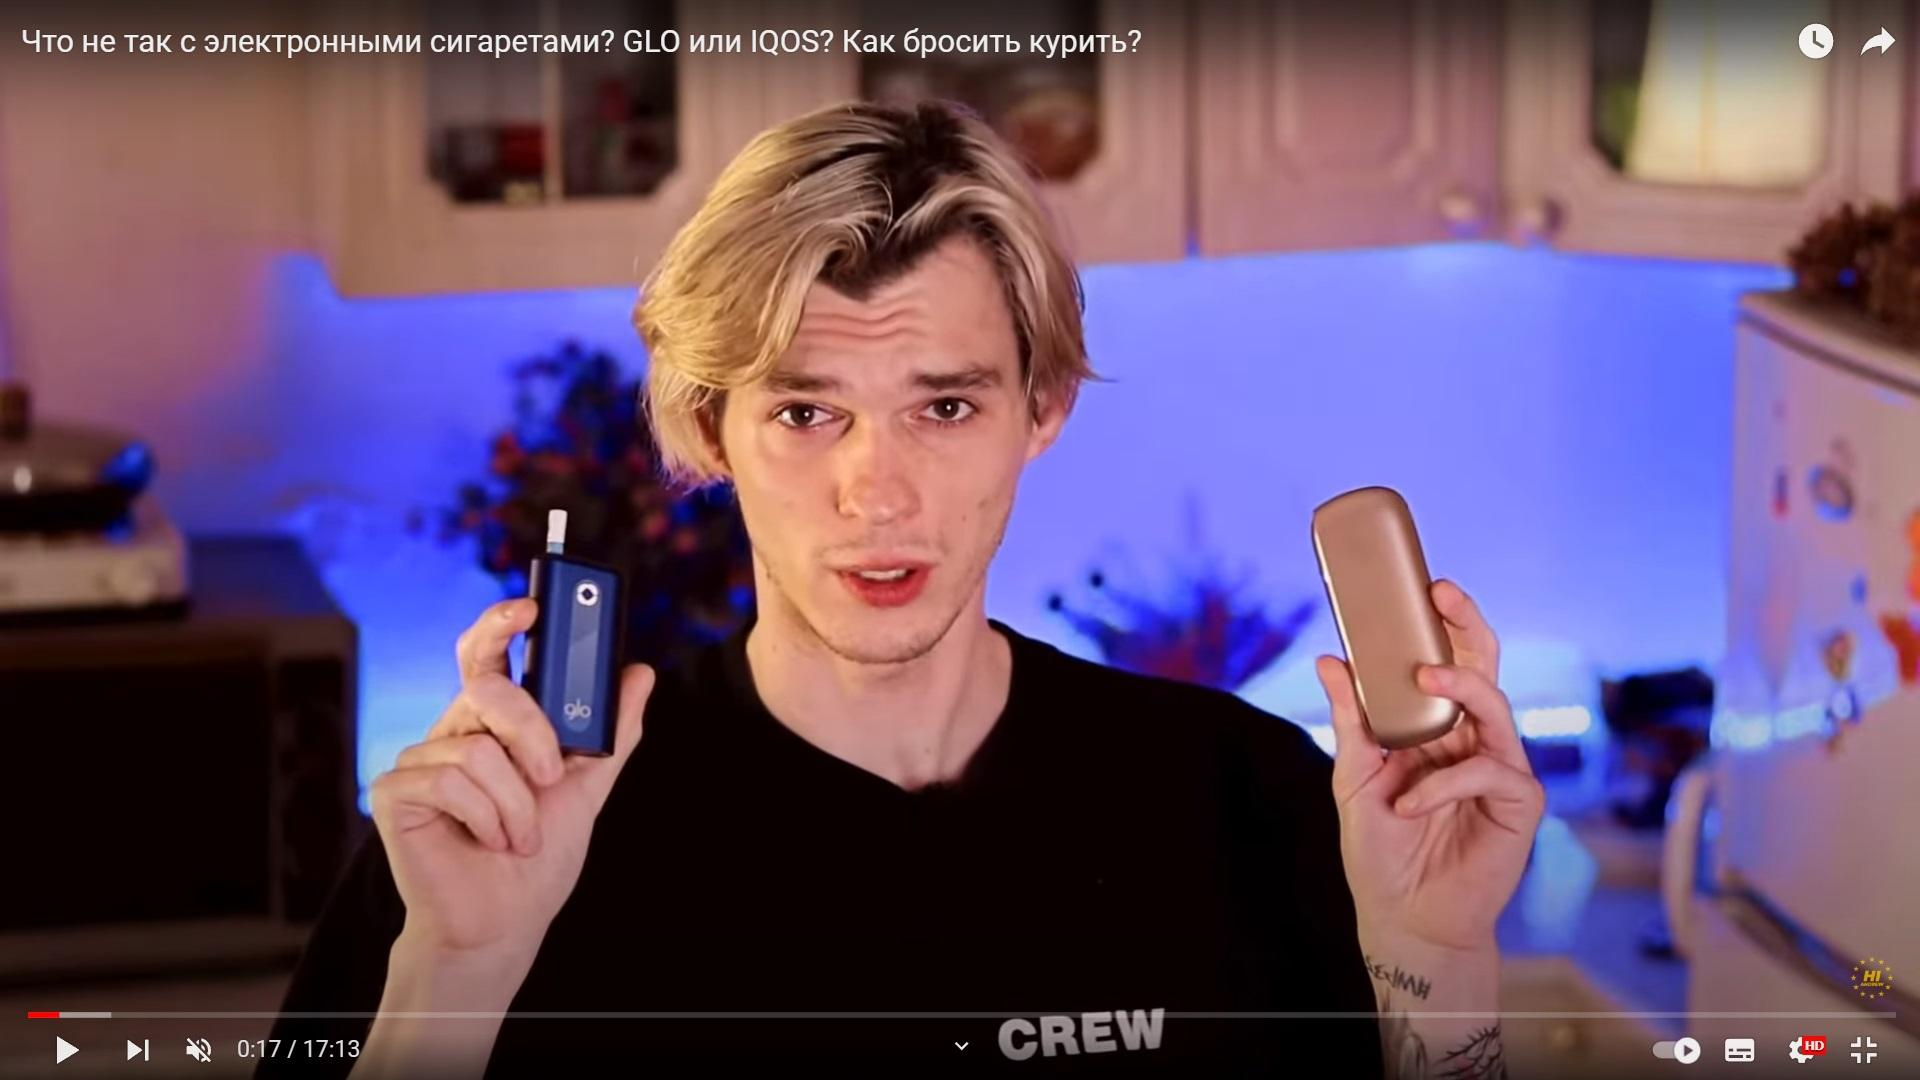iqos: (522, 508, 618, 756)
